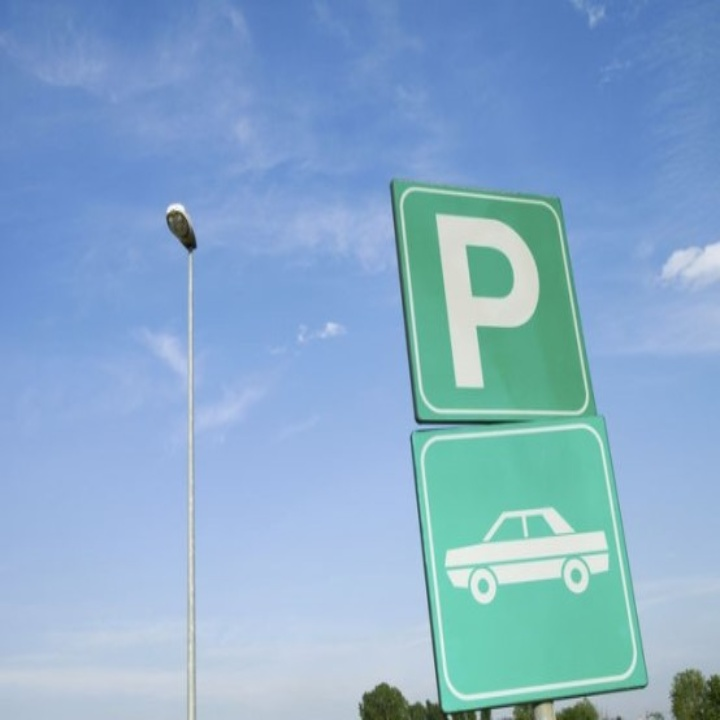parking: (424, 205, 551, 400)
